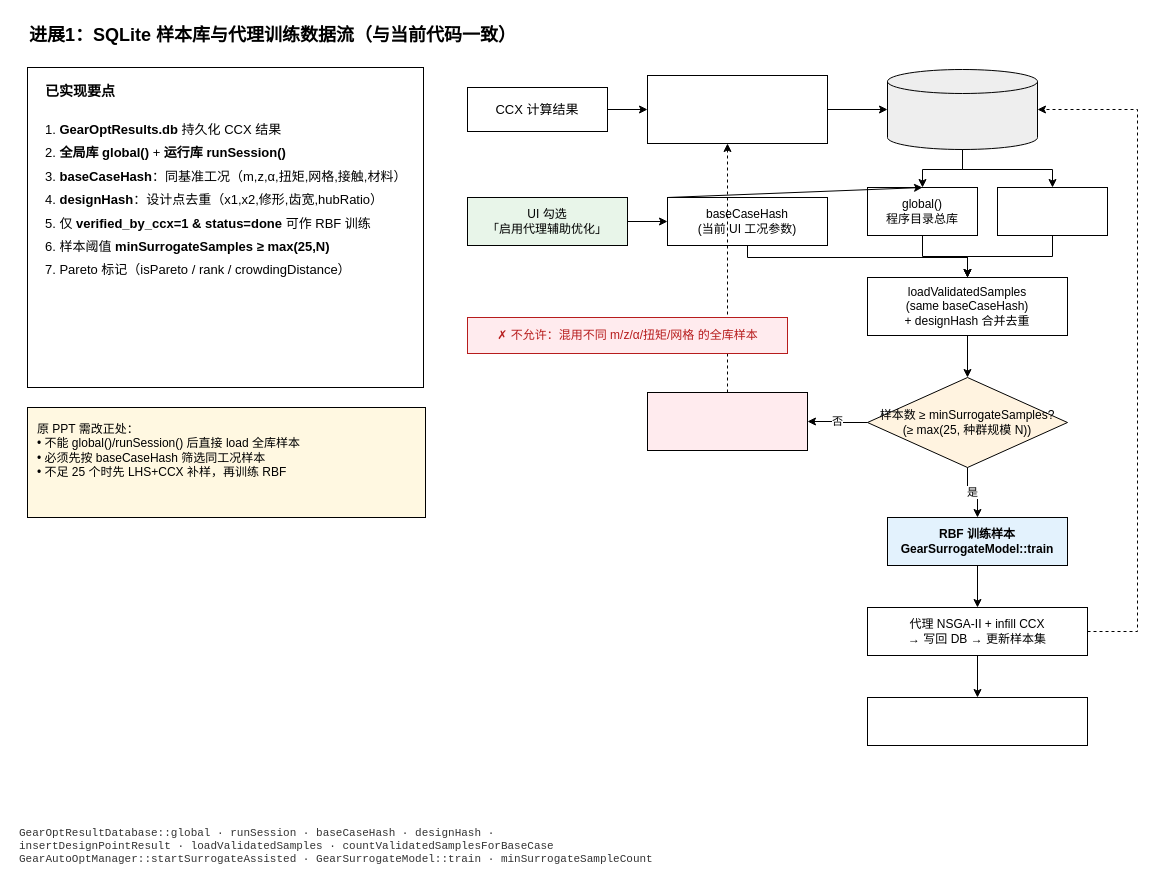
Some shapes in this 1163 by 883 pixel diagram are drawn without their labels. The shapes that lost their labels are listed below. From the top down, each one's centre as x and y in pixels, then its label:
the point at 737,109: insertDesignPointResult + base_case_hash + design_hash + verified_by_ccx=1
the point at 962,109: GearOptResults.db
the point at 1052,211: runSession() 本次运行库
the point at 727,421: LHS + CCX 补样 (仅同 baseCaseHash)
the point at 977,721: 最终 Pareto (仅 status=Done 的 CCX 真值)
